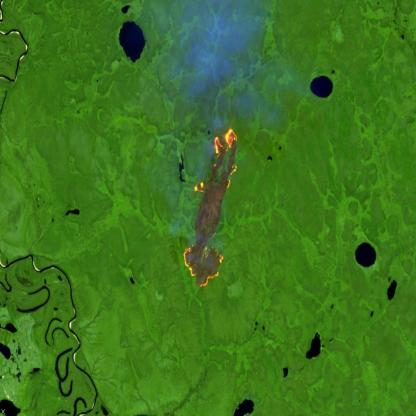fire: (179, 124, 241, 291)
